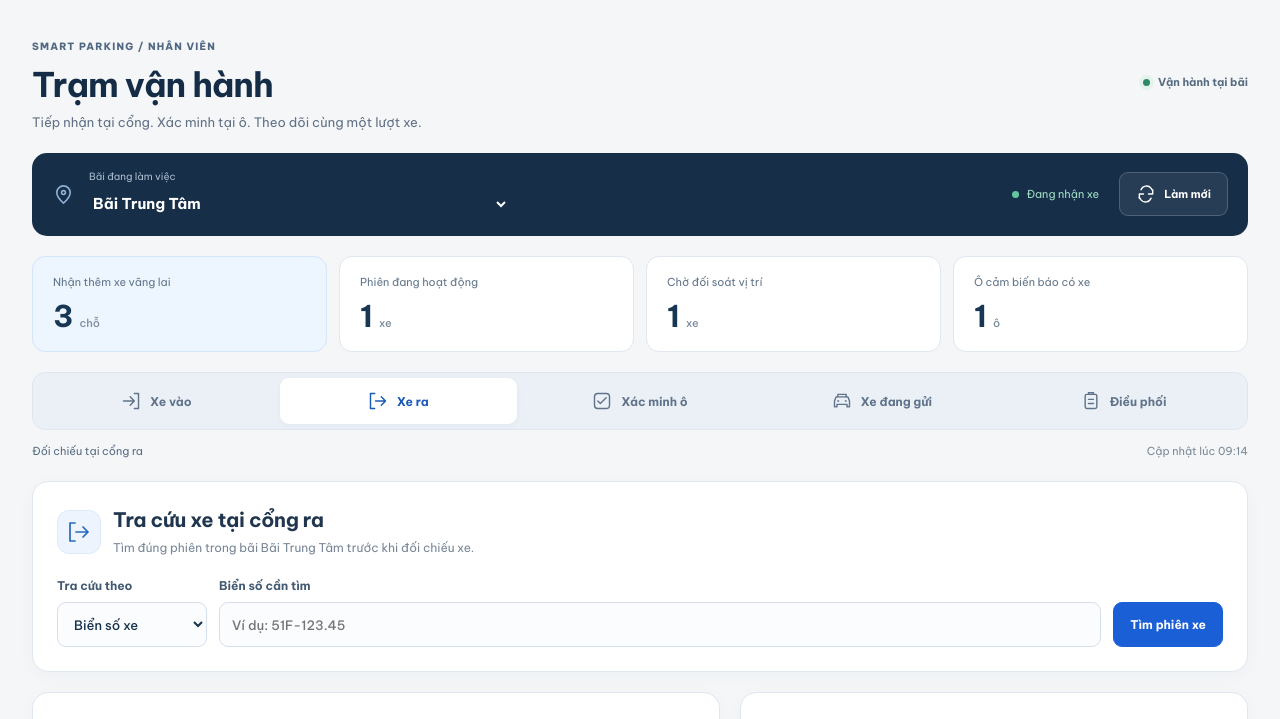
Staff workspace › reloads the displayed exit session when payment changes and Staff refreshes
This screenshot has width=1280, height=719.
Click the button "Làm mới": (1174, 194) [1119,172,1228,216]
(page scrolled)
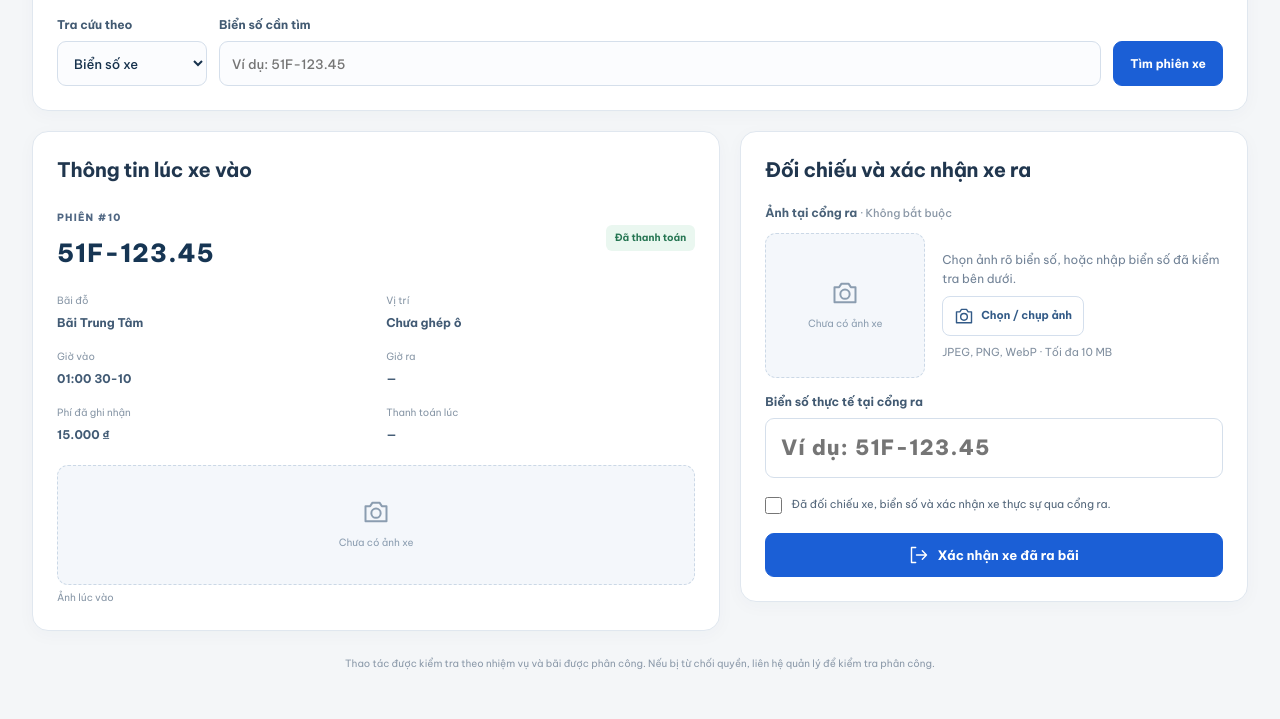
expect the button "Xác nhận xe đã ra bãi" is enabled: met, box [765,533,1223,577]
